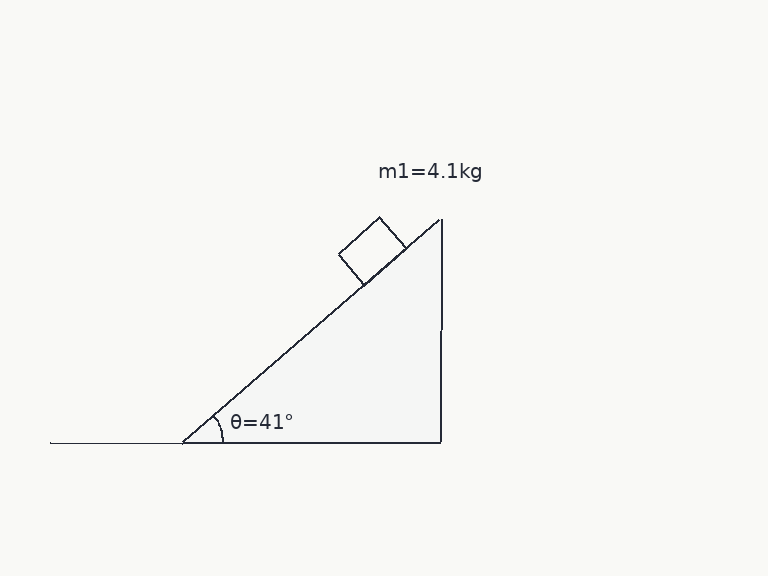block: (335, 215, 408, 287)
ramp: (181, 216, 442, 444)
